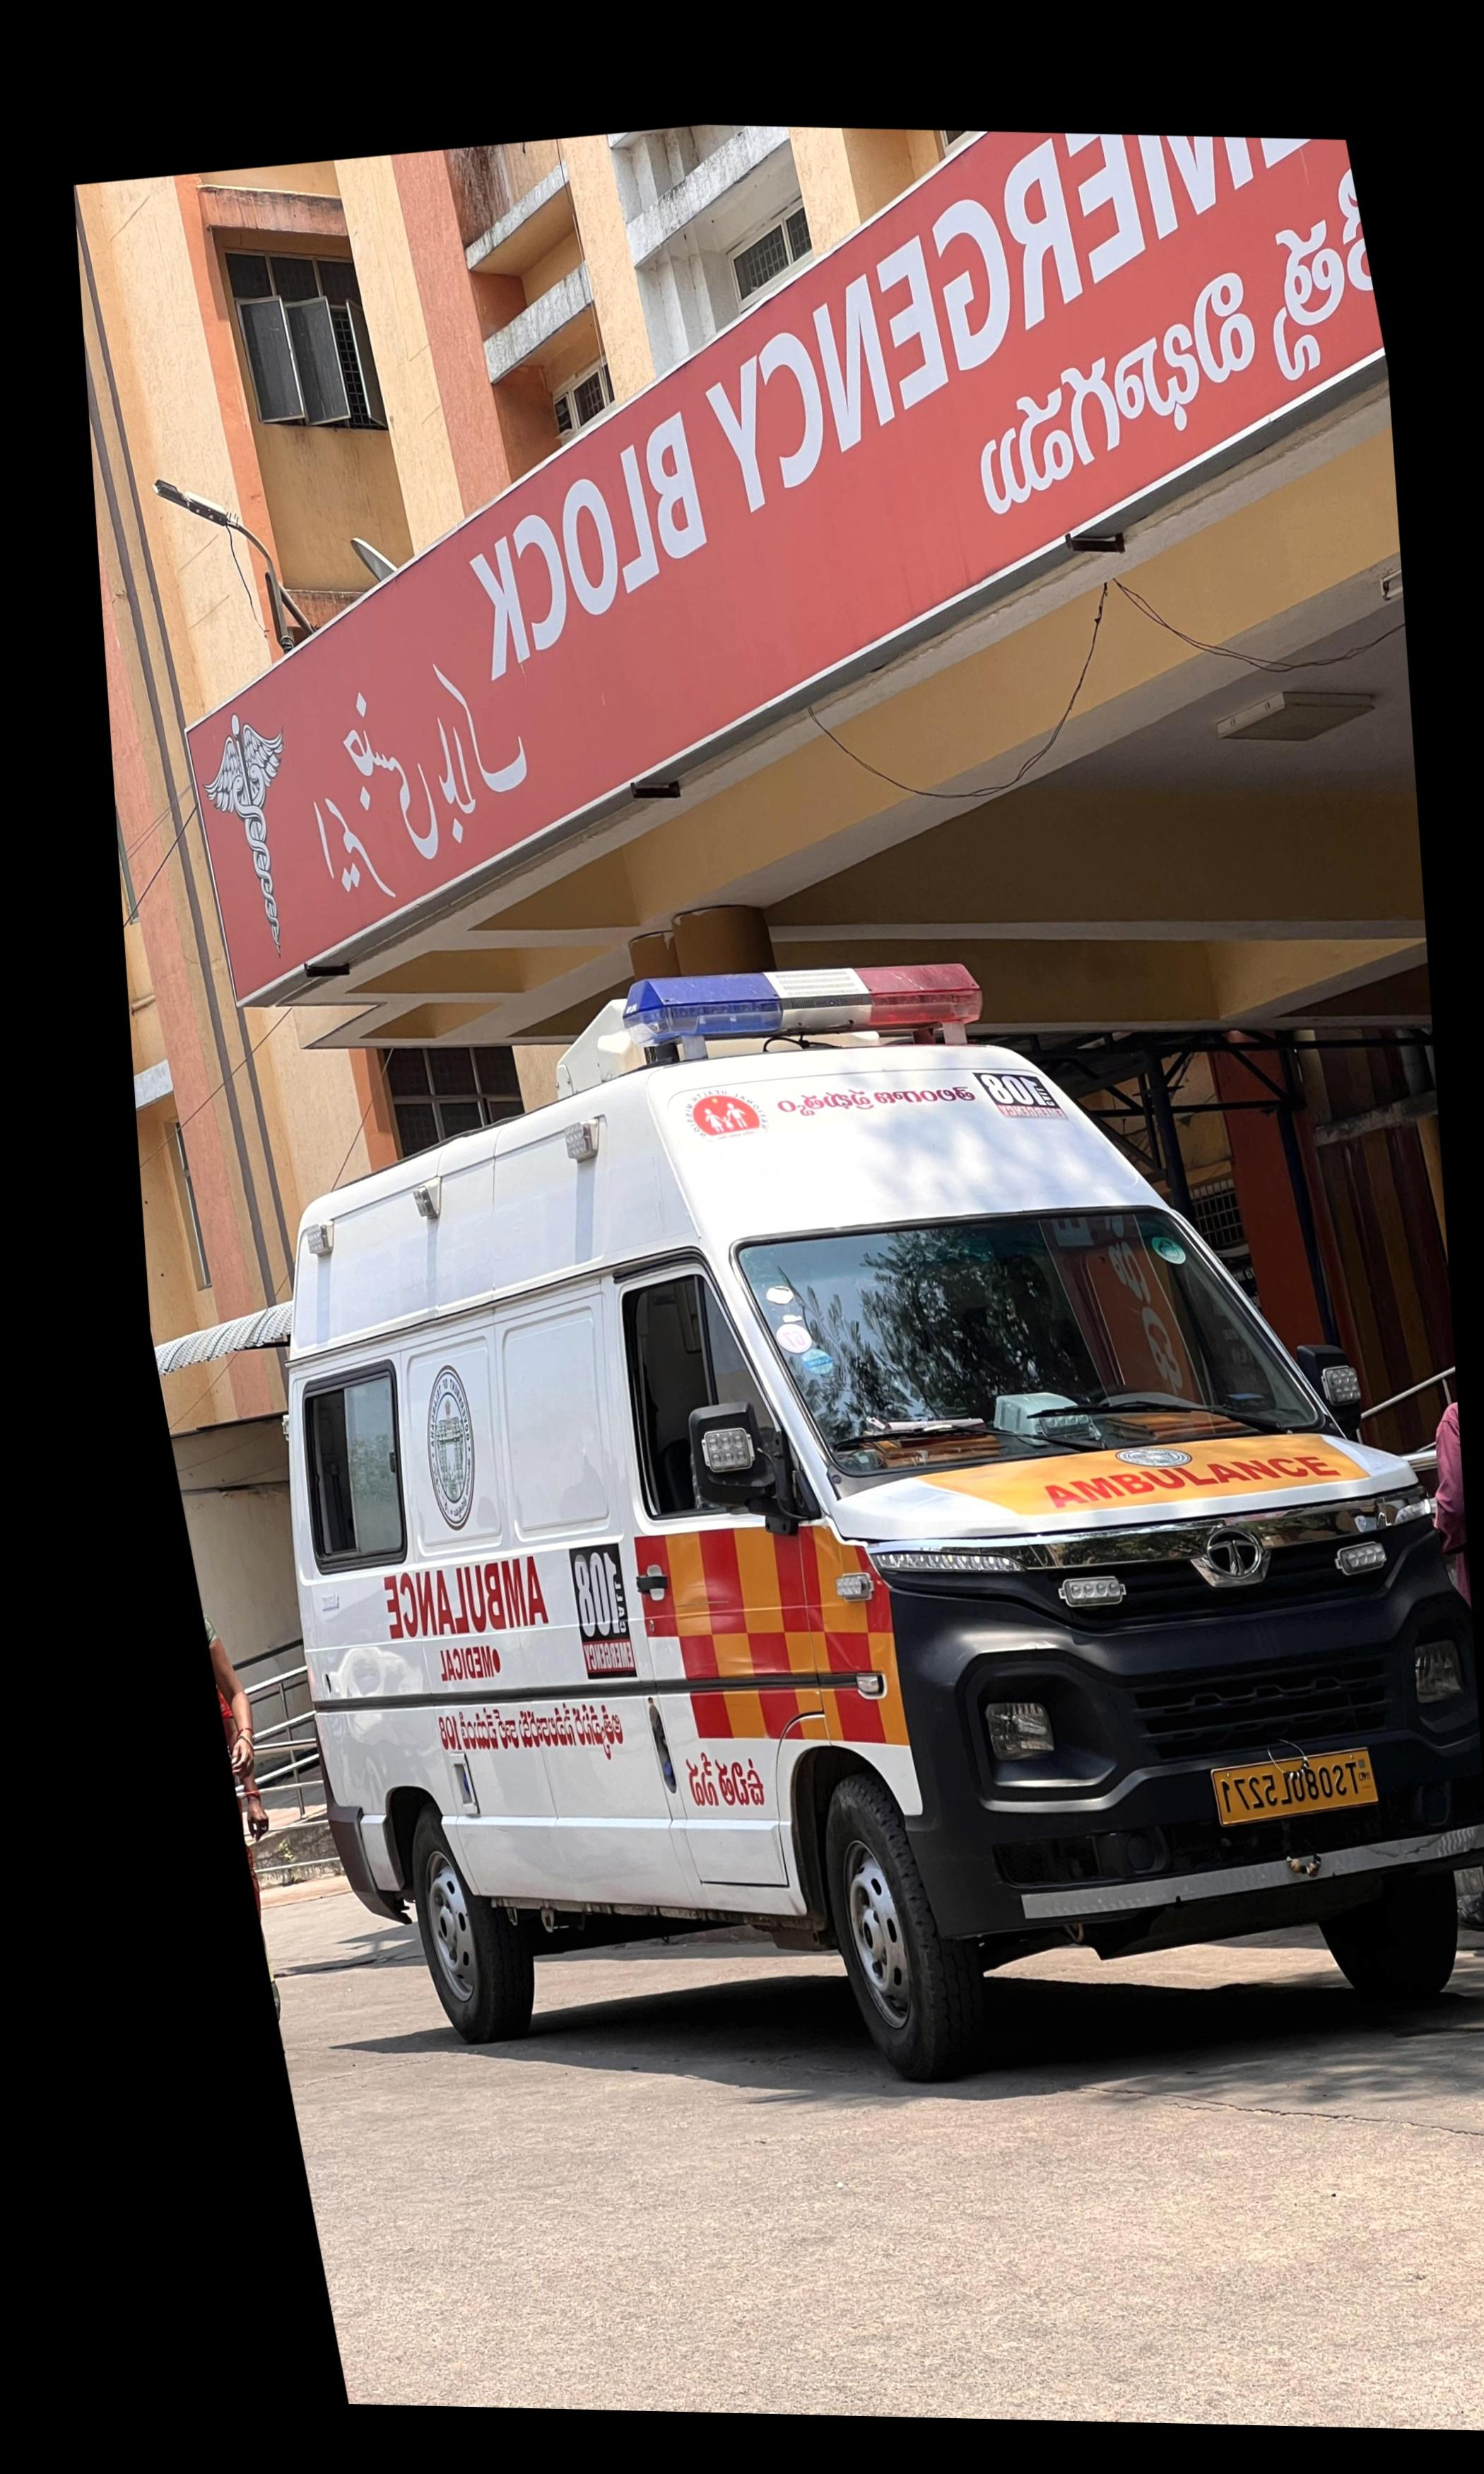ambulance: (284, 1037, 1484, 2080)
